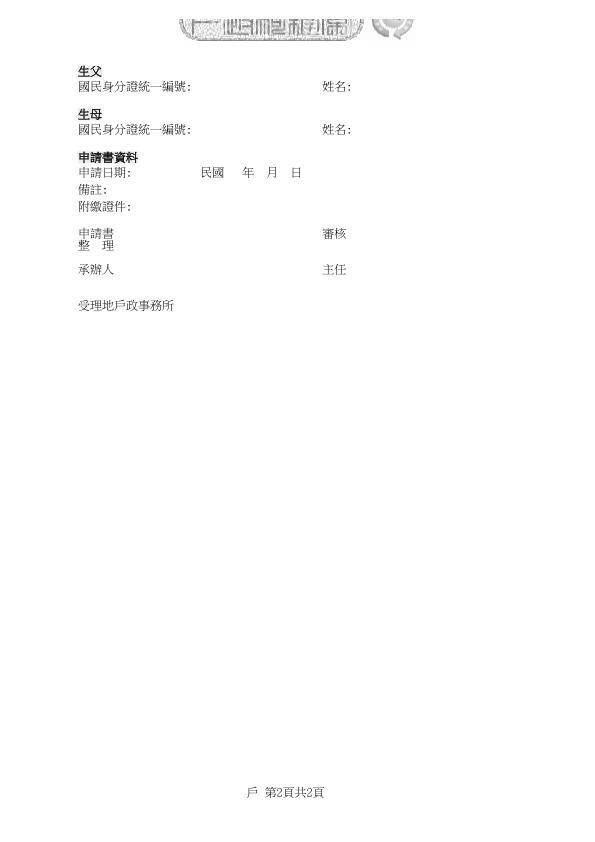text: (65, 147, 377, 332), (68, 56, 368, 100), (65, 104, 378, 145)
